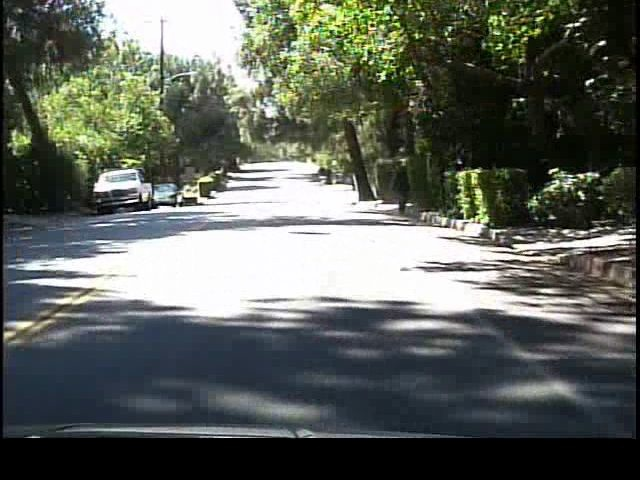person: (390, 158, 411, 217)
